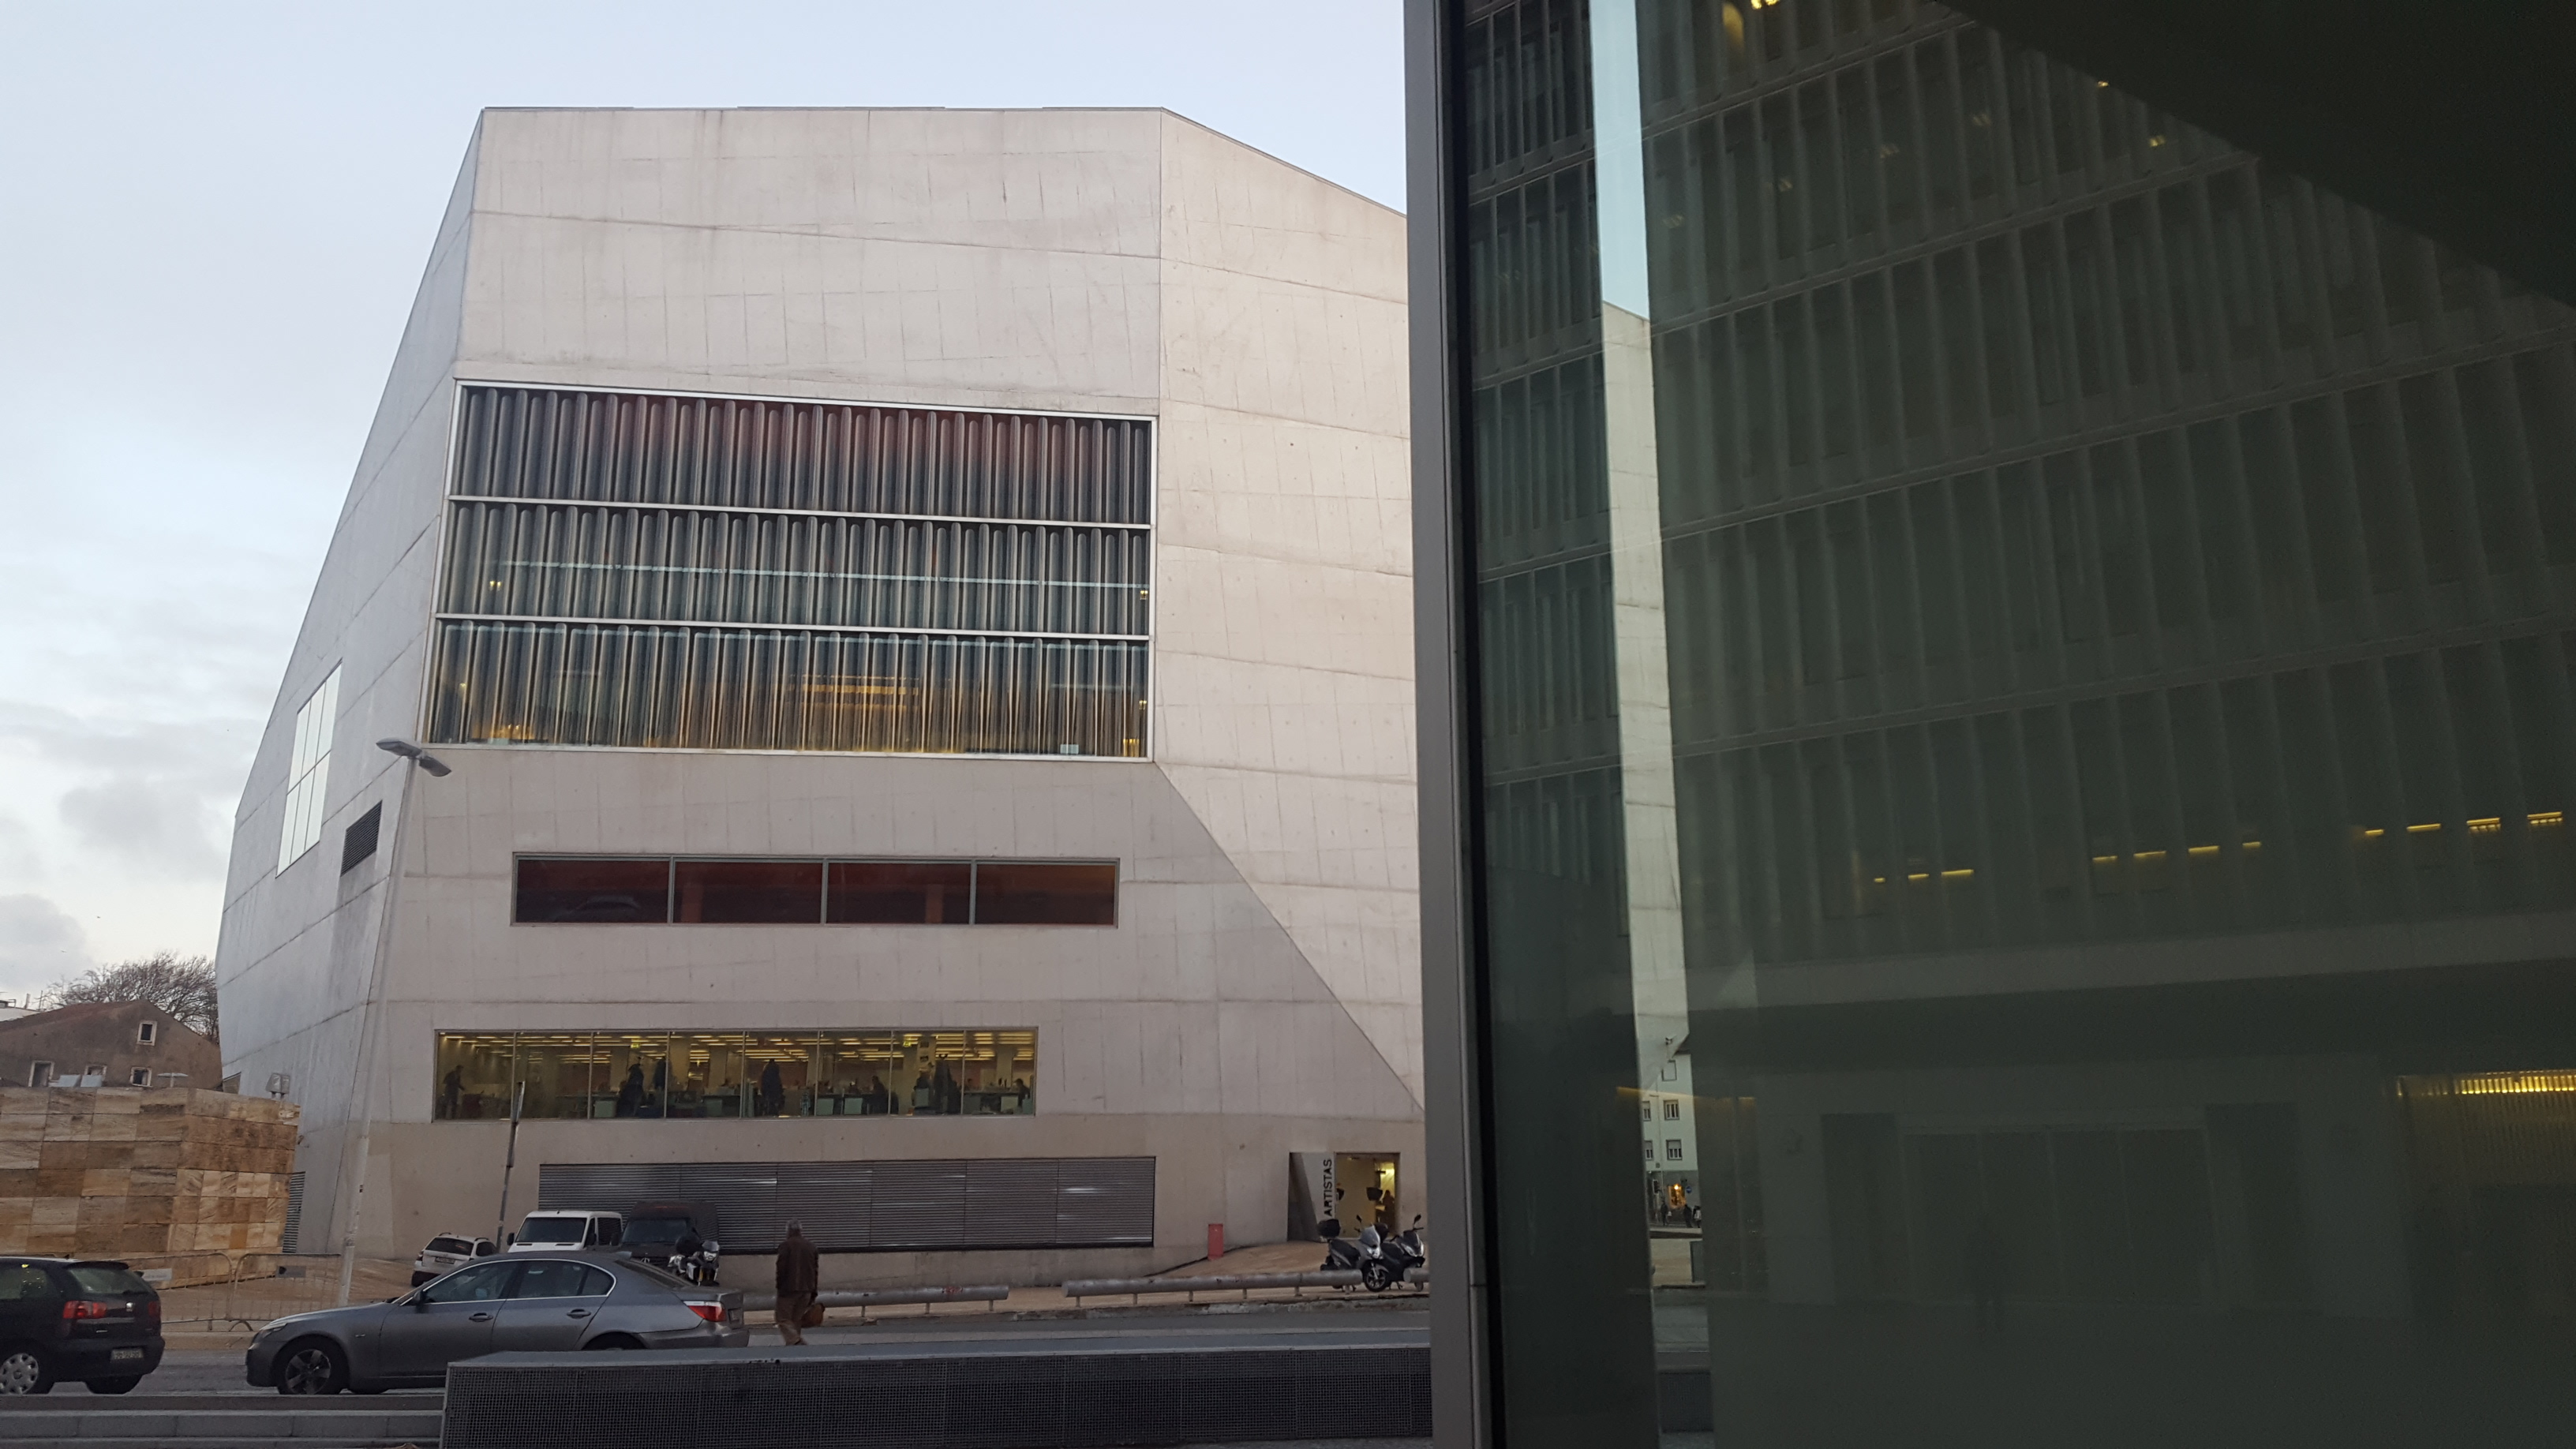musica: (241, 0, 1401, 1171)
